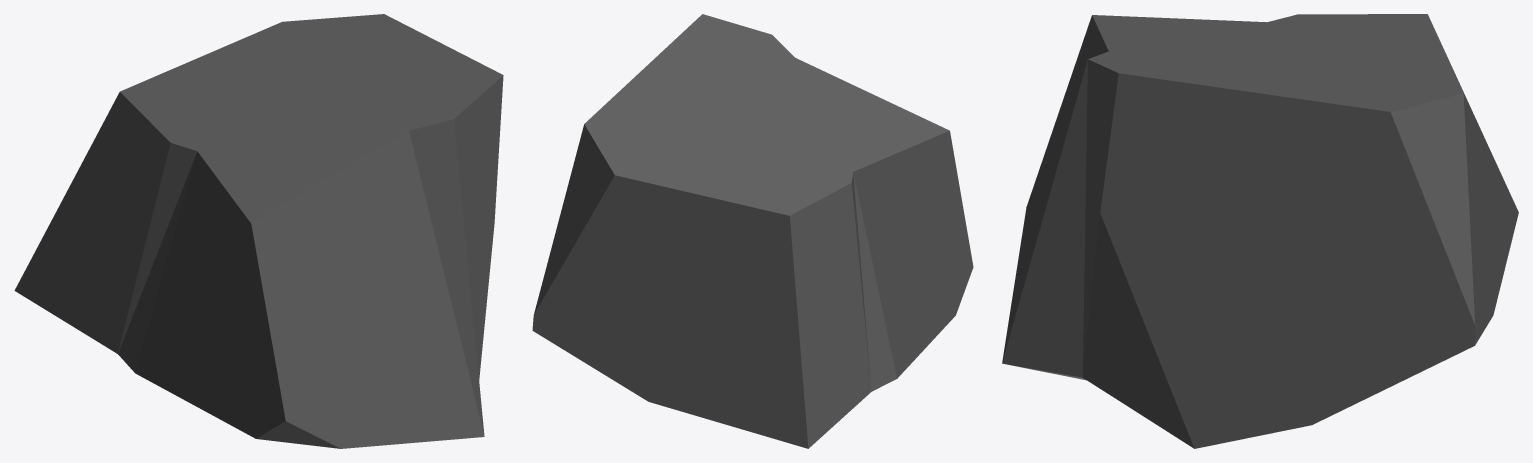
File: Rock_3.fbx
The picture shows the model from 3 angles, left to right: view 1: azimuth 30°, elevation 25°; view 2: azimuth 150°, elevation 25°; view 3: azimuth 270°, elevation 25°; orthographic projection. The views are drawn at different scales.
Visible parts, largest first — view 1: M_Rock 3; view 2: M_Rock 3; view 3: M_Rock 3.
Part boxes in pixels (x1,y1,x2,y2): M_Rock 3: [14, 14, 503, 448]; M_Rock 3: [532, 14, 973, 448]; M_Rock 3: [1002, 14, 1518, 448].
Bounding box in the file's own units: 0.3525 × 0.3515 × 0.4439.
1 material, 1 textured.
